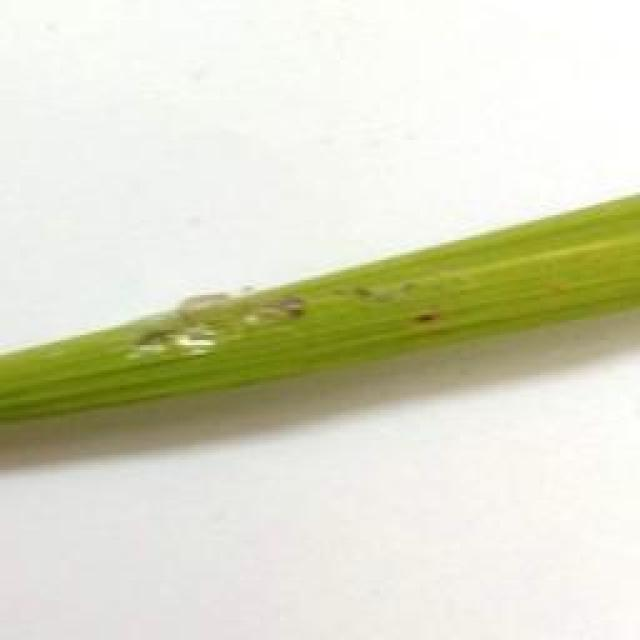Bacterial_Blight: (172, 298, 316, 351), (124, 334, 263, 376)
Brown_Spot: (408, 292, 447, 338)
